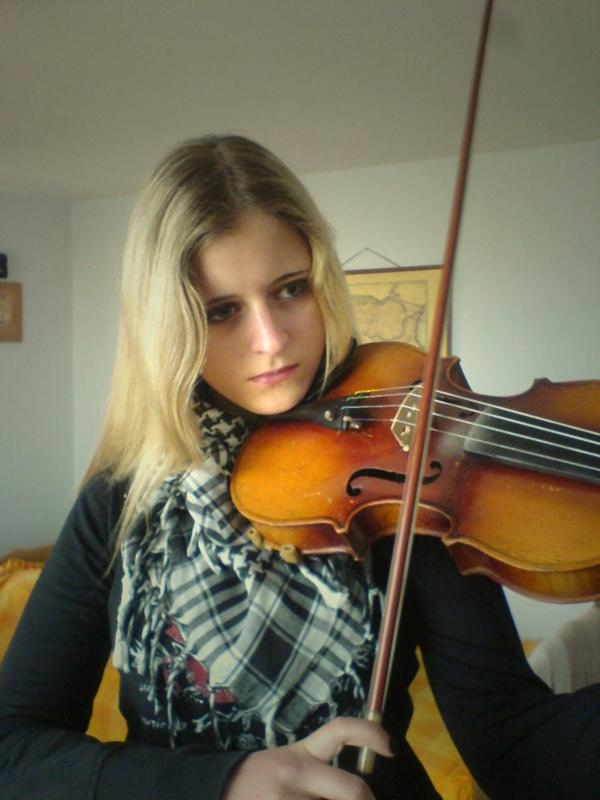person: (1, 137, 600, 800)
